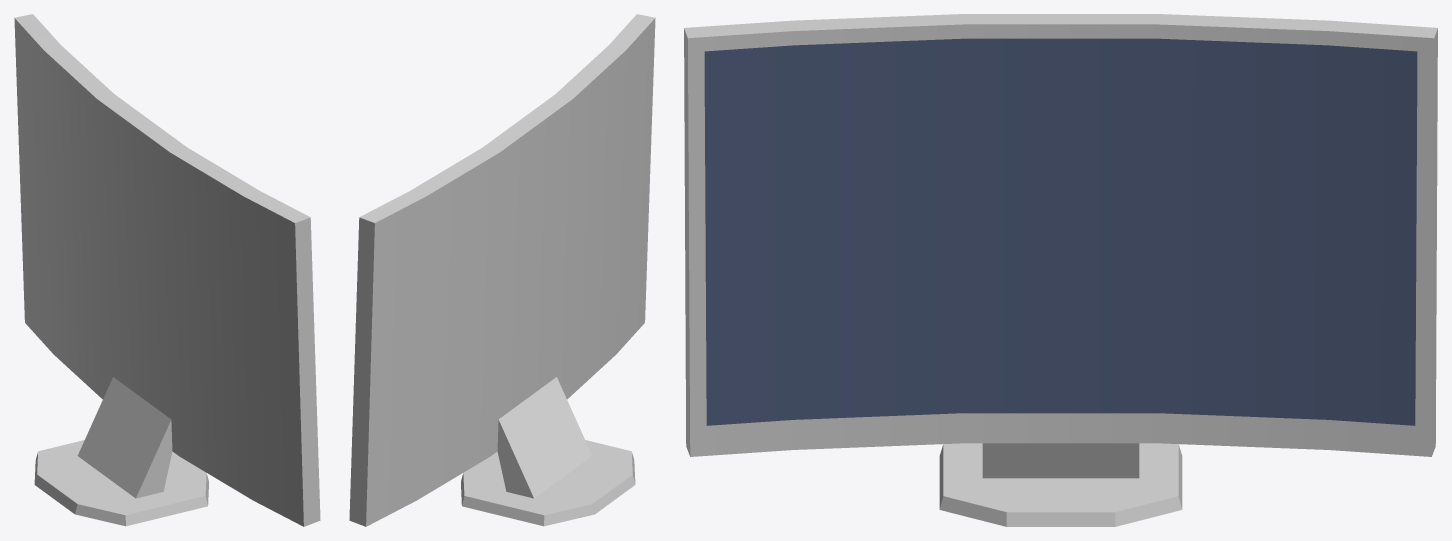
Rendered from monitor2.fbx.
The picture shows the model from 3 angles, left to right: view 1: azimuth 30°, elevation 25°; view 2: azimuth 150°, elevation 25°; view 3: azimuth 270°, elevation 25°; orthographic projection. The views are drawn at different scales.
Visible parts, largest first — view 1: monitor2; view 2: monitor2; view 3: monitor2.
Part boxes in pixels (left/top/right/bottom): monitor2: left=14, top=14, right=320, bottom=526; monitor2: left=349, top=14, right=655, bottom=526; monitor2: left=684, top=14, right=1437, bottom=526.
Bounding box in the file's own units: 0.3879 × 0.9818 × 1.4.
